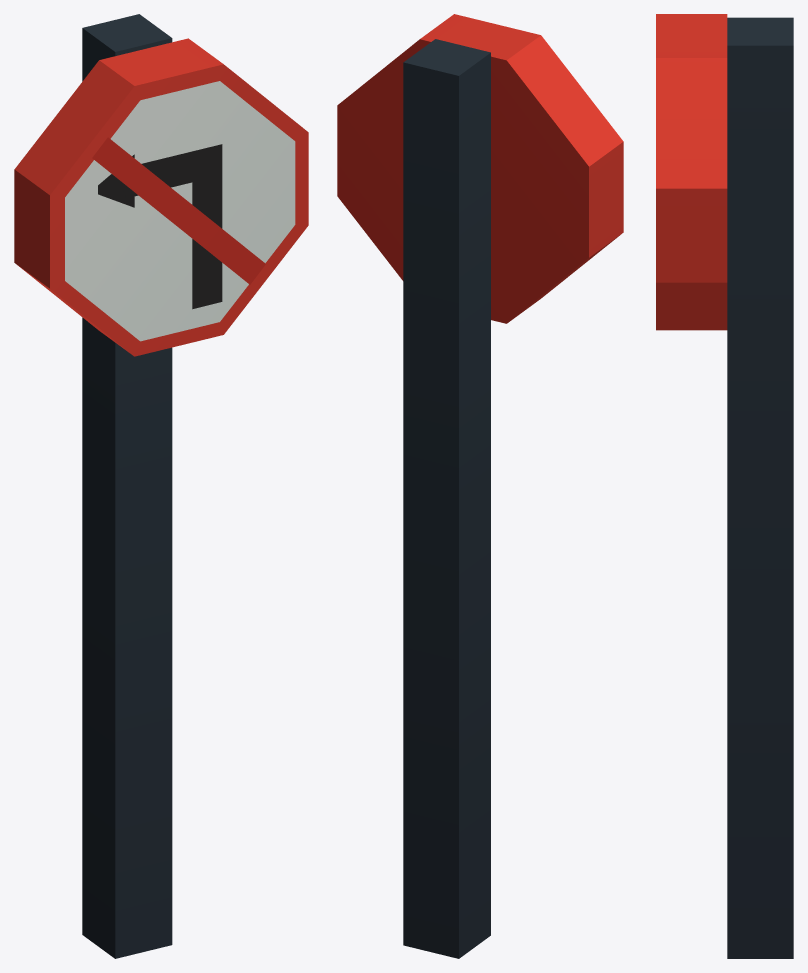
File: Road_sign_7.fbx
The picture shows the model from 3 angles, left to right: view 1: azimuth 30°, elevation 25°; view 2: azimuth 150°, elevation 25°; view 3: azimuth 270°, elevation 25°; orthographic projection. The views are drawn at different scales.
Visible parts, largest first — view 1: Road_sign_7; view 2: Road_sign_7; view 3: Road_sign_7.
Boxes of the visible parts, left/top/right/bottom form: Road_sign_7: left=14, top=14, right=308, bottom=958; Road_sign_7: left=337, top=14, right=623, bottom=958; Road_sign_7: left=656, top=14, right=793, bottom=958.
Bounding box in the file's own units: 107 × 359 × 50.32.
